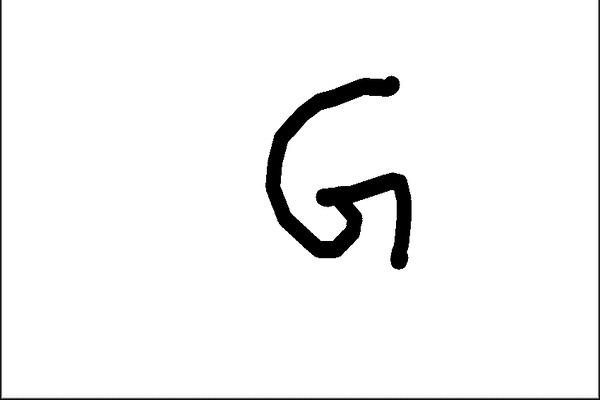G: (258, 68, 418, 275)
